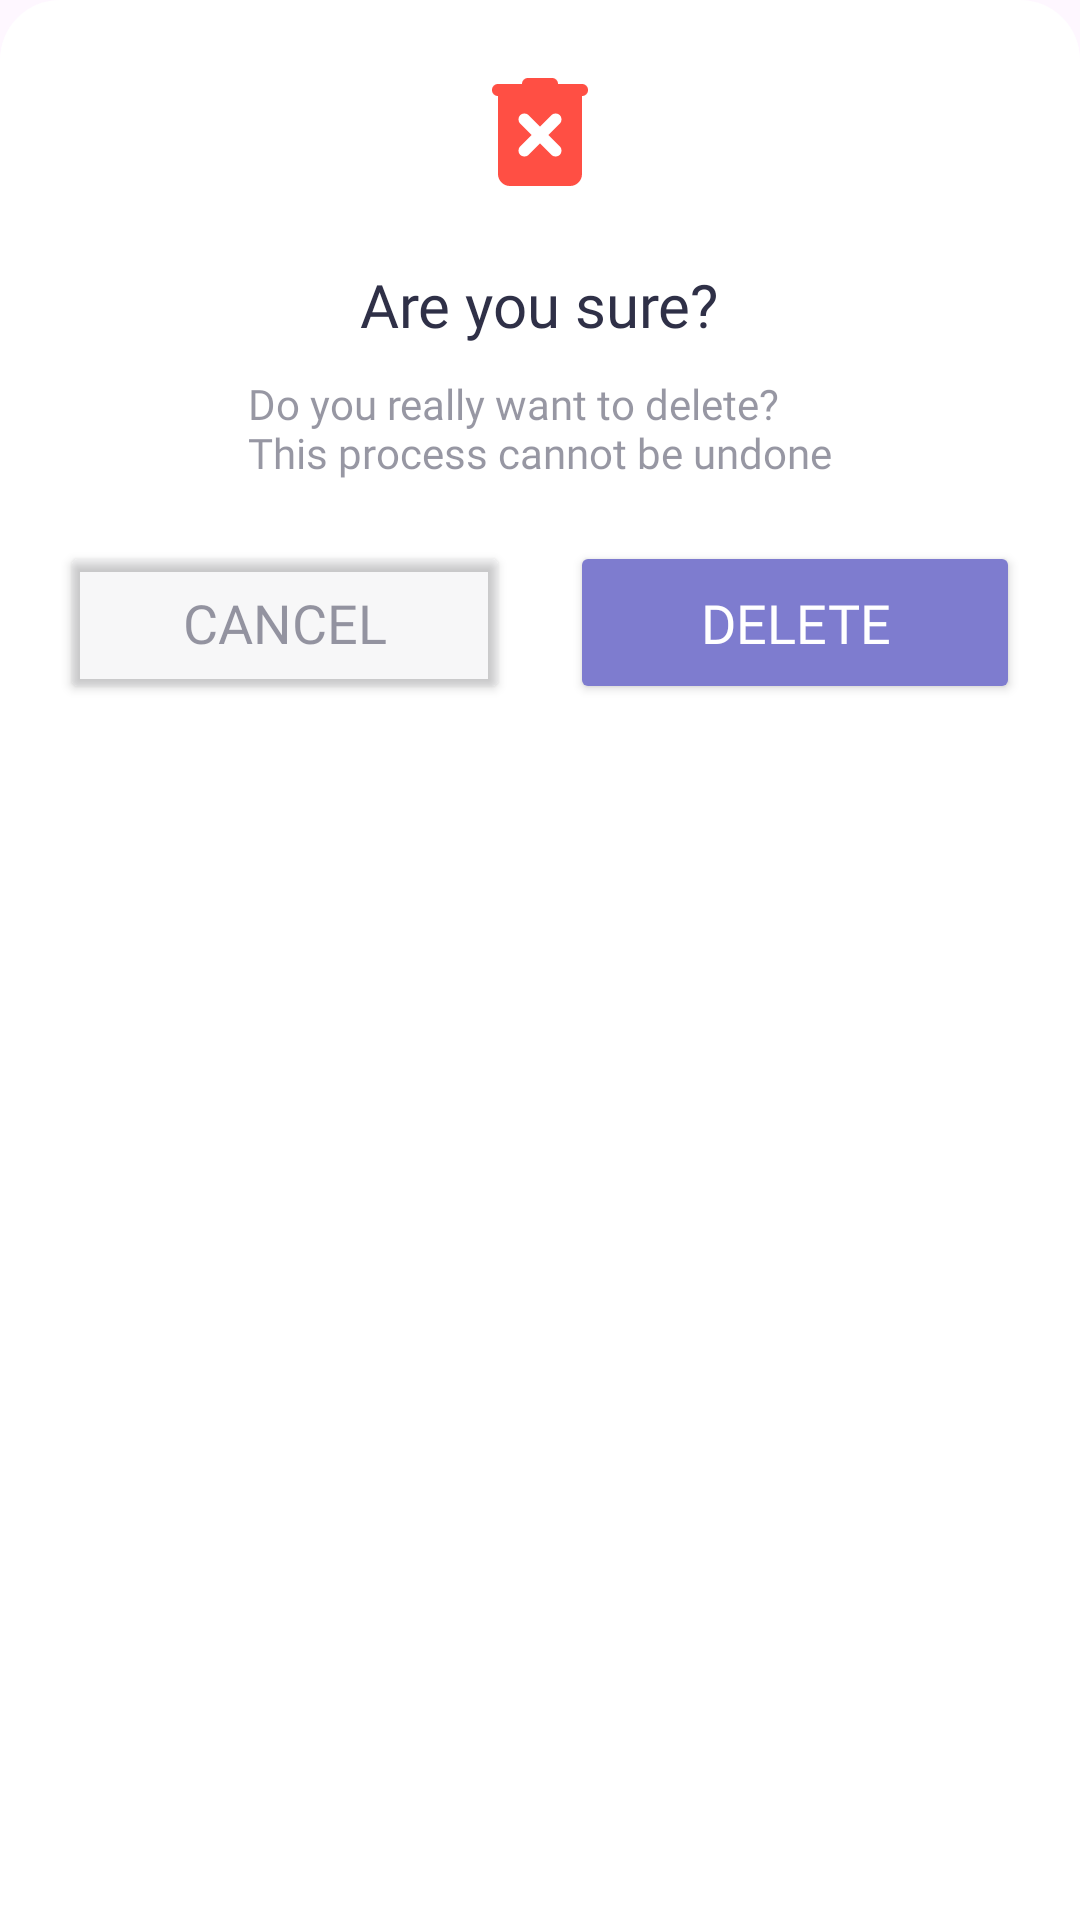

Where icons sit on this 1080×1920 app screen, as {"x1": x1, "y1": y1, "x2": x2, "y2": y2}:
delete item: {"x1": 492, "y1": 78, "x2": 588, "y2": 186}
